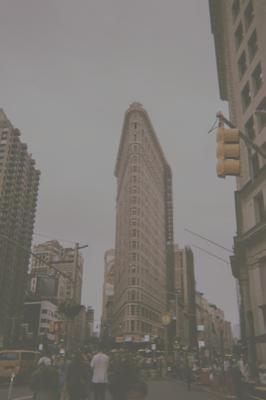International Road Signal Light: (216, 124, 240, 179)
